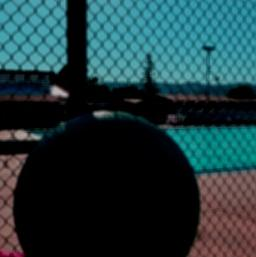algae: (7, 109, 207, 257)
